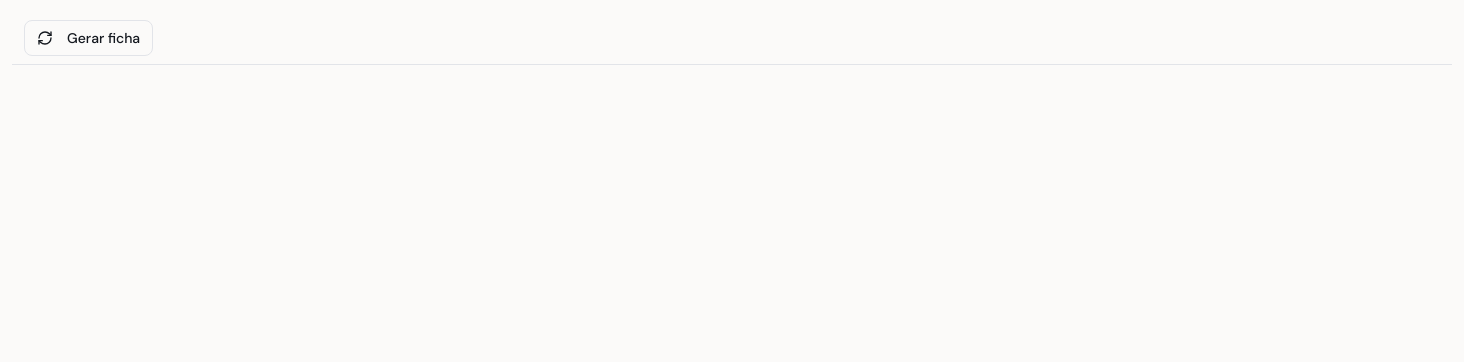
Test: Ficha da cliente › gera ficha com a conversa atual e lê novamente após terminar
This screenshot has width=1464, height=362.
Later steps or results of the test are not shown.
Click the button "Gerar ficha" at point(89, 38), box 24,20 -> 153,56
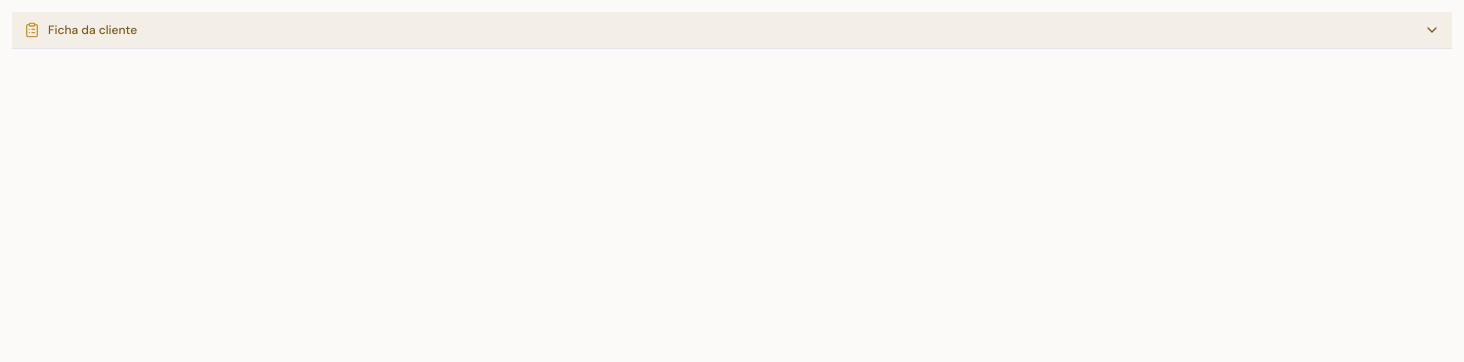
Click the button "Ficha da cliente" at point(93, 30), box 12,12 -> 1452,48
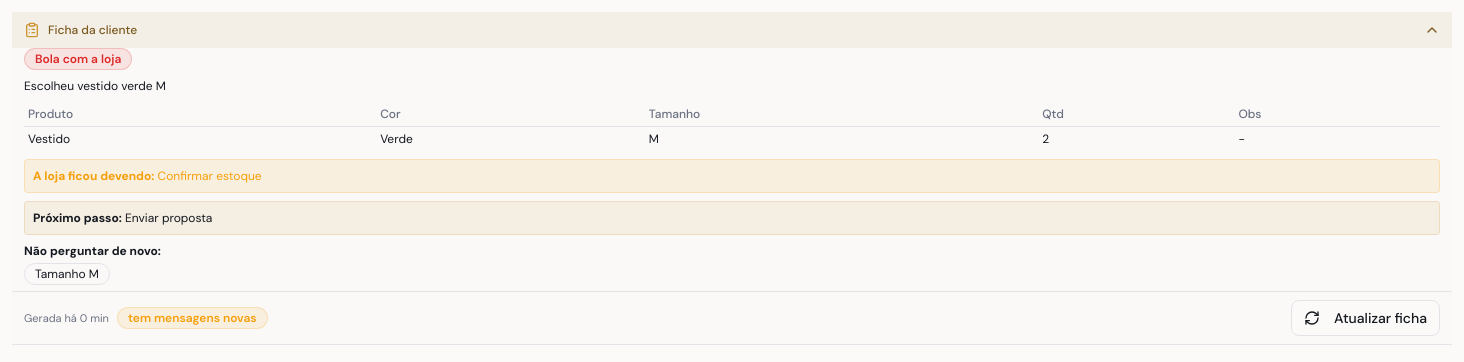
Check: the text "Escolheu vestido verde M" is shown, box 24,78 -> 166,94
